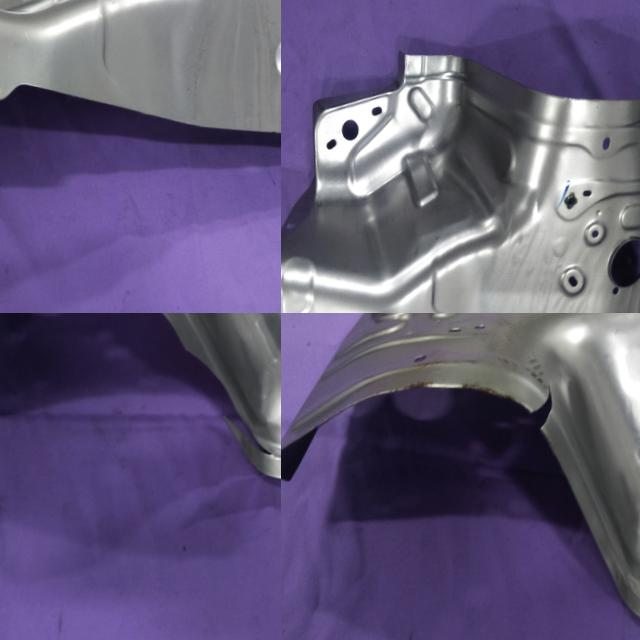Defect: (187, 346, 281, 460), (514, 364, 570, 454)
Healthy: (281, 36, 640, 313)
